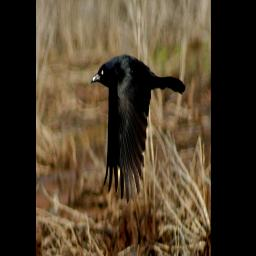Crow: (90, 52, 186, 204)
